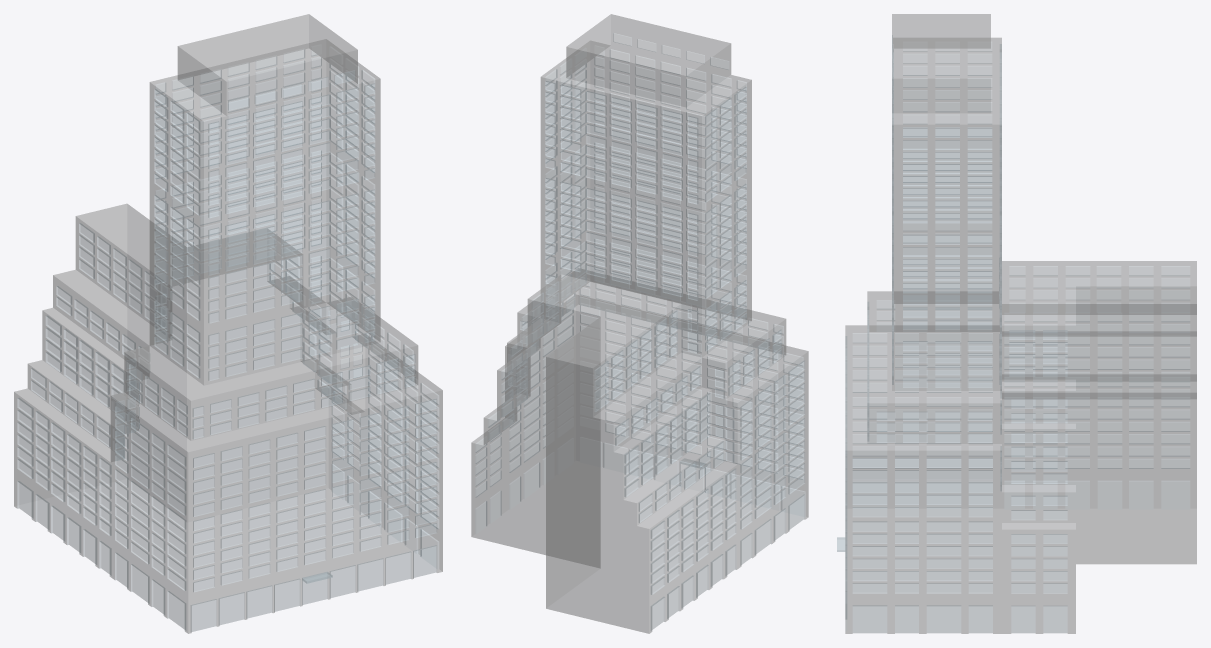
File: 100_park_001.glb
The picture shows the model from 3 angles, left to right: view 1: azimuth 30°, elevation 25°; view 2: azimuth 150°, elevation 25°; view 3: azimuth 270°, elevation 25°; orthographic projection. The views are drawn at different scales.
Parts seen in each view (by area): view 1: 100_park_001.obj; view 2: 100_park_001.obj; view 3: 100_park_001.obj.
Part boxes in pixels (x1,y1,x2,y2): 100_park_001.obj: [14, 14, 442, 633]; 100_park_001.obj: [471, 14, 808, 633]; 100_park_001.obj: [837, 14, 1196, 633].
Bounding box in the file's own units: 0.6966 × 1.36 × 0.8451.
